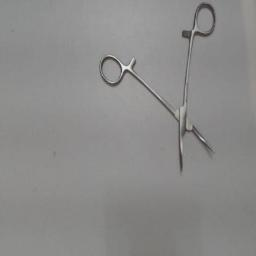Crile Artery Forceps: (98, 0, 218, 176)
